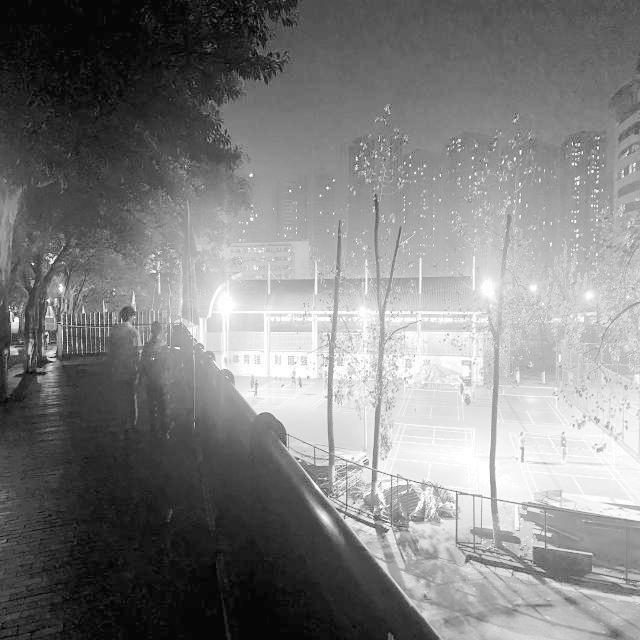Light: (217, 284, 236, 317), (475, 278, 498, 304)
Person: (104, 302, 140, 430), (142, 322, 178, 440)
Tree: (354, 192, 416, 504), (473, 205, 519, 551), (321, 213, 348, 487)
